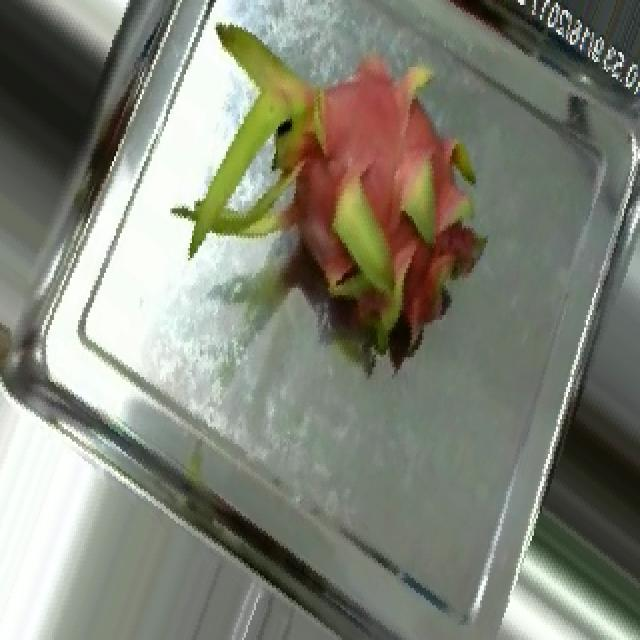fruit: (134, 0, 552, 422)
